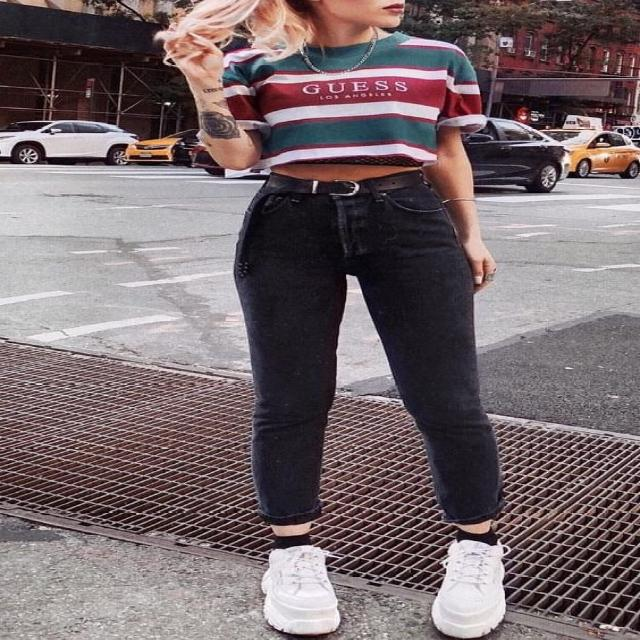clothes: (197, 34, 520, 533)
